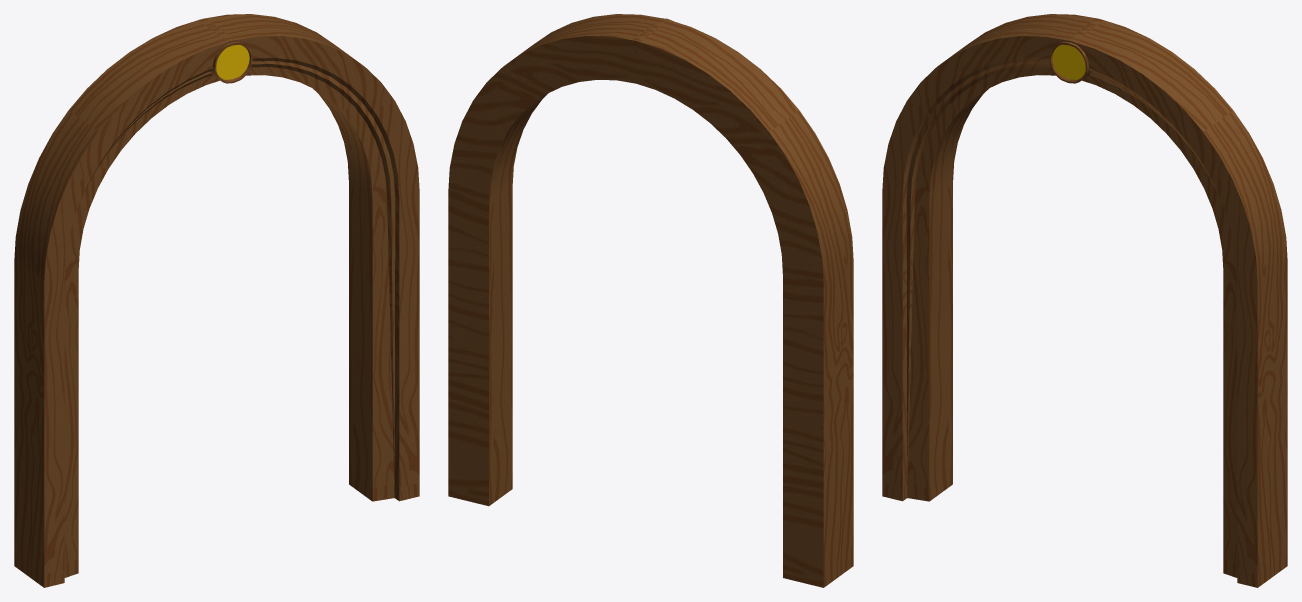
Rendered from Puerta.fbx.
3 renders of one model, left to right at view 1: azimuth 30°, elevation 25°; view 2: azimuth 150°, elevation 25°; view 3: azimuth 330°, elevation 25°, orthographic.
Parts seen in each view (by area): view 1: Marco Puerta; view 2: Marco Puerta; view 3: Marco Puerta.
Boxes of the visible parts, <box> form: Marco Puerta: <box>14,14,419,587</box>; Marco Puerta: <box>448,14,853,587</box>; Marco Puerta: <box>882,14,1287,587</box>.
Size of the model in its own units: 193 by 246 by 28.23.
